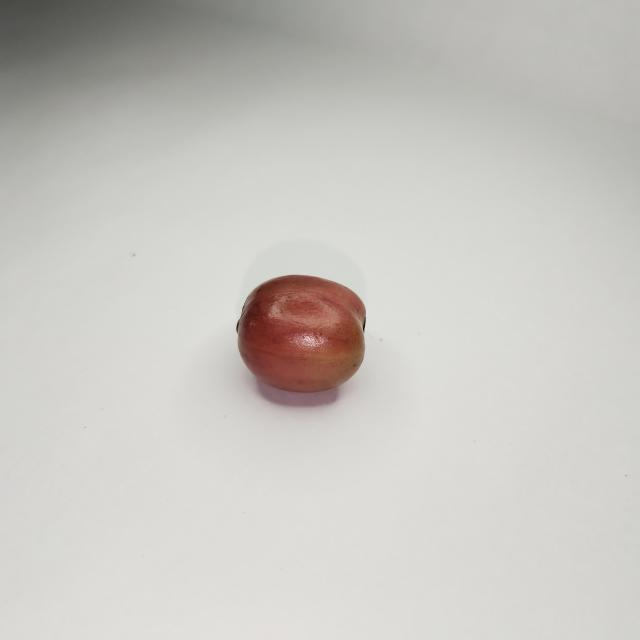Sano: (237, 275, 364, 394)
